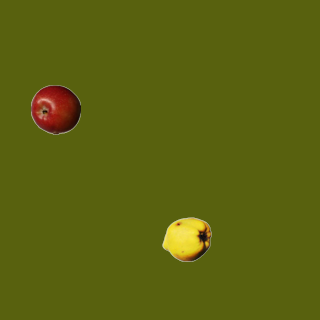Apple Braeburn: (30, 84, 80, 134)
Quince: (161, 214, 211, 264)
